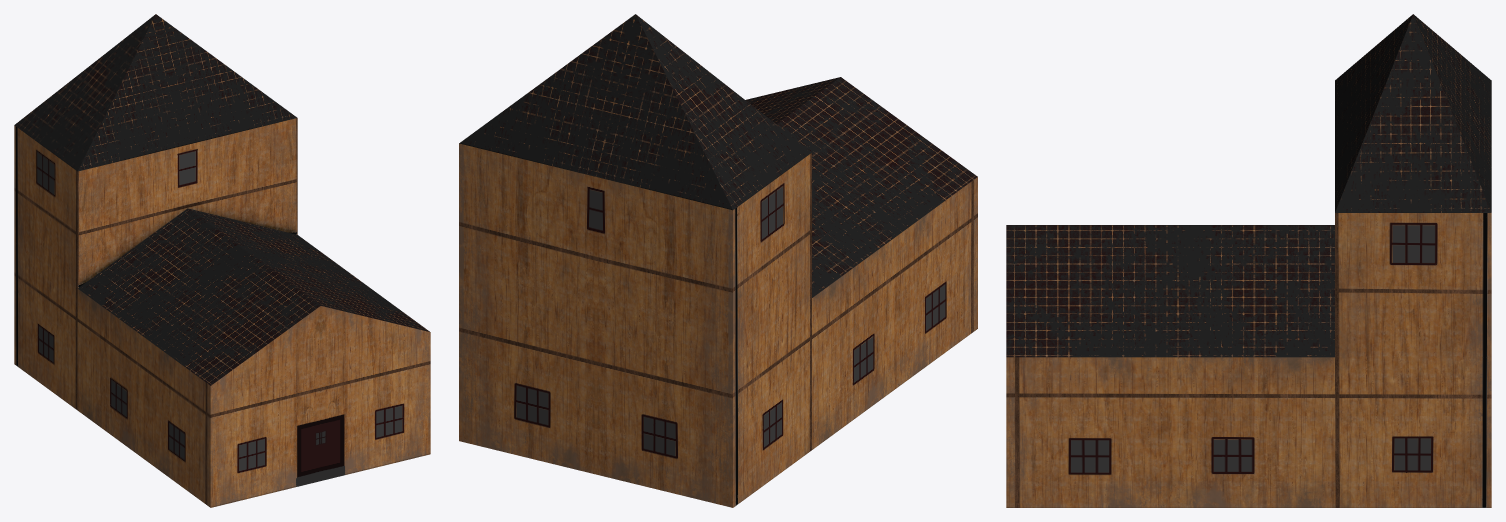
Rendered from church.fbx.
3 views of the same model, side by side, from view 1: azimuth 30°, elevation 25°; view 2: azimuth 150°, elevation 25°; view 3: azimuth 270°, elevation 25° (orthographic). The views are drawn at different scales.
Visible parts, largest first — view 1: church; view 2: church; view 3: church.
Part boxes in pixels (x1=…): church: x1=14, y1=14, x2=430, y2=507; church: x1=459, y1=14, x2=977, y2=507; church: x1=1006, y1=14, x2=1491, y2=507.
Size of the model in its own units: 37741 by 56797 by 58386.
